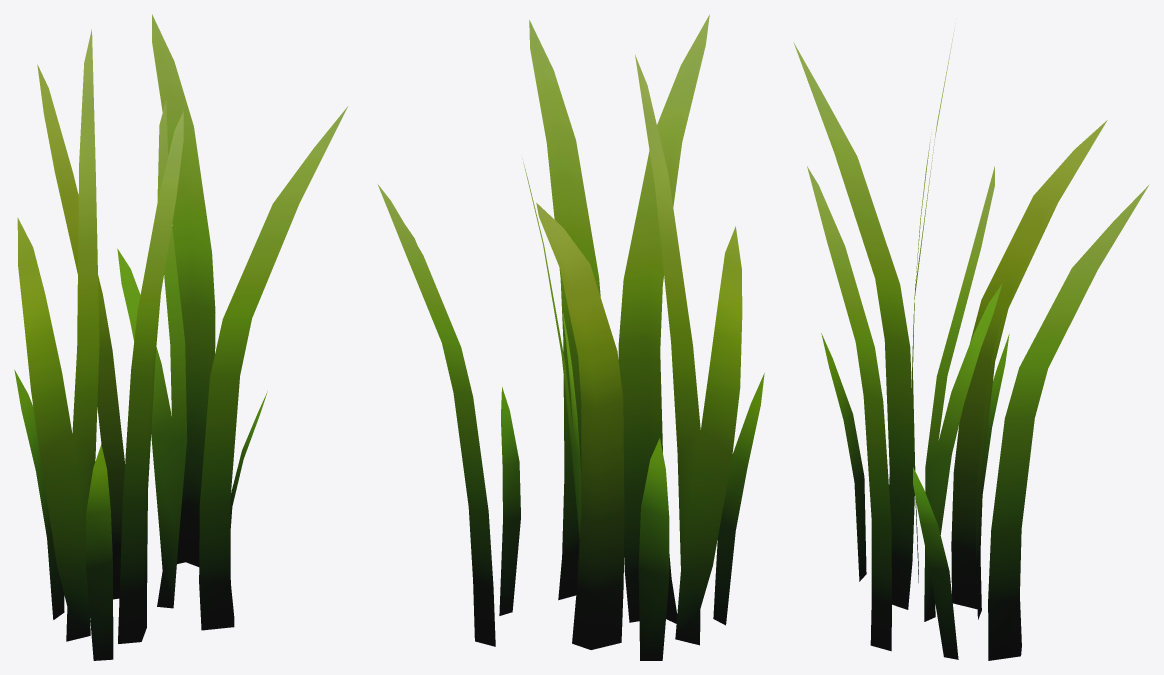
Rendered from grass-1.glb.
3 renders of one model, left to right at view 1: azimuth 30°, elevation 25°; view 2: azimuth 150°, elevation 25°; view 3: azimuth 270°, elevation 25°, orthographic. The views are drawn at different scales.
Visible parts, largest first — view 1: Grass_Common_Short; view 2: Grass_Common_Short; view 3: Grass_Common_Short.
Boxes of the visible parts, x1=… form: Grass_Common_Short: x1=14, y1=14, x2=347, y2=660; Grass_Common_Short: x1=377, y1=14, x2=764, y2=660; Grass_Common_Short: x1=793, y1=27, x2=1149, y2=660.
Size of the model in its own units: 0.1197 by 0.25 by 0.1382.
Materials: 1 (1 with a texture image).
